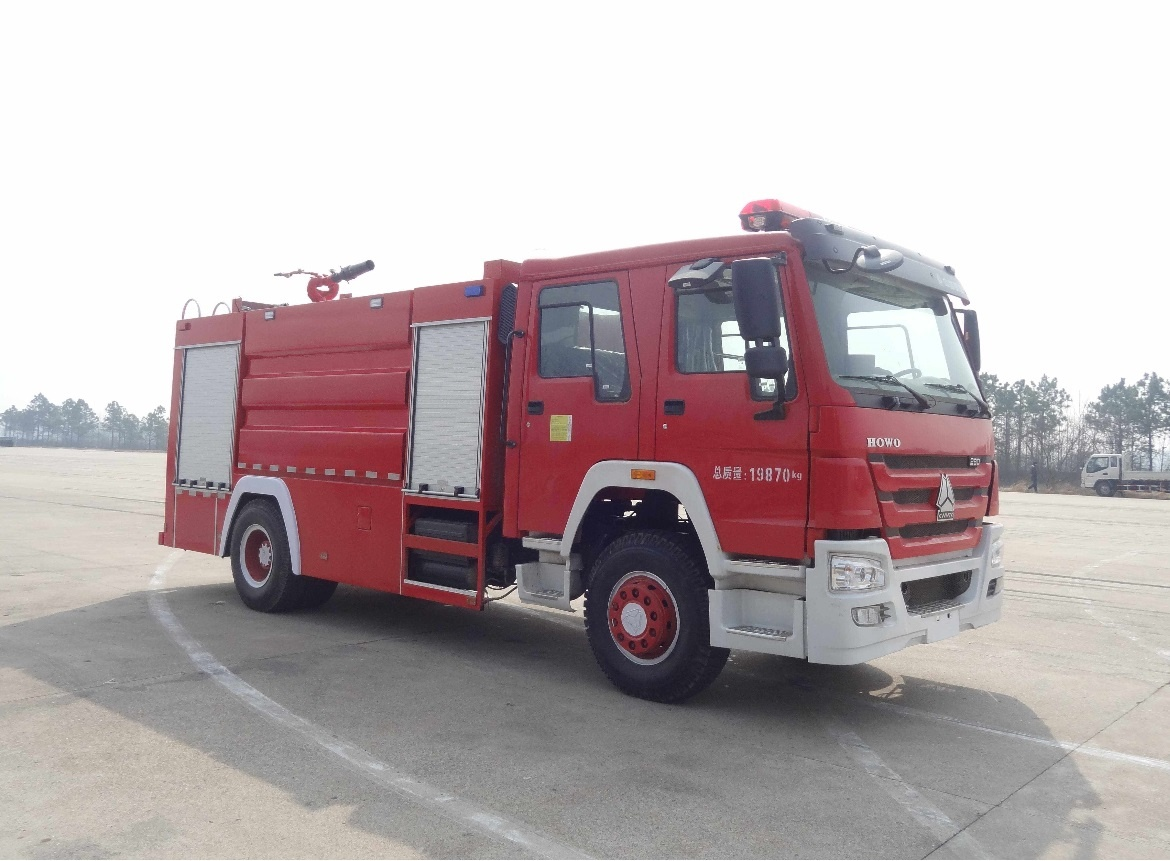fire engine: (113, 168, 1033, 725)
